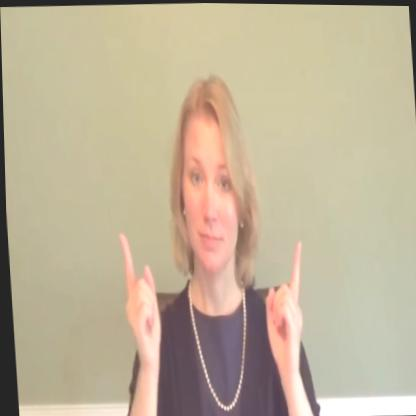NiceToMeetYou: (103, 68, 322, 416)
